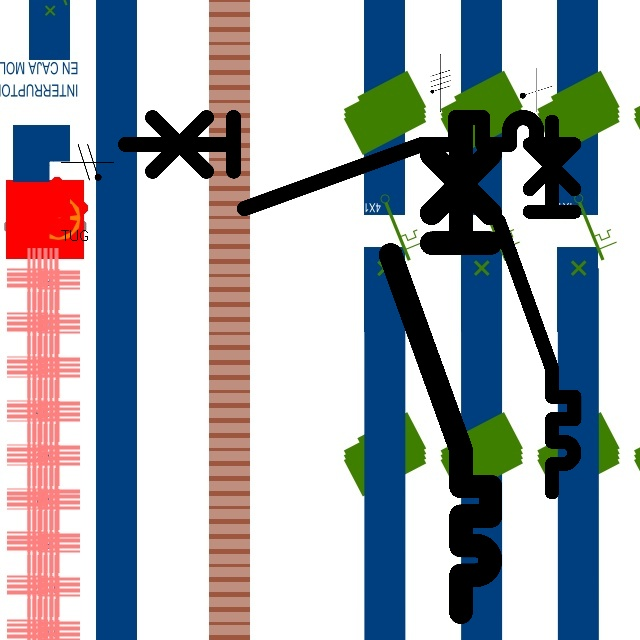interruptor_termomagnetico: (378, 112, 503, 625), (113, 106, 581, 220), (489, 112, 584, 502)
